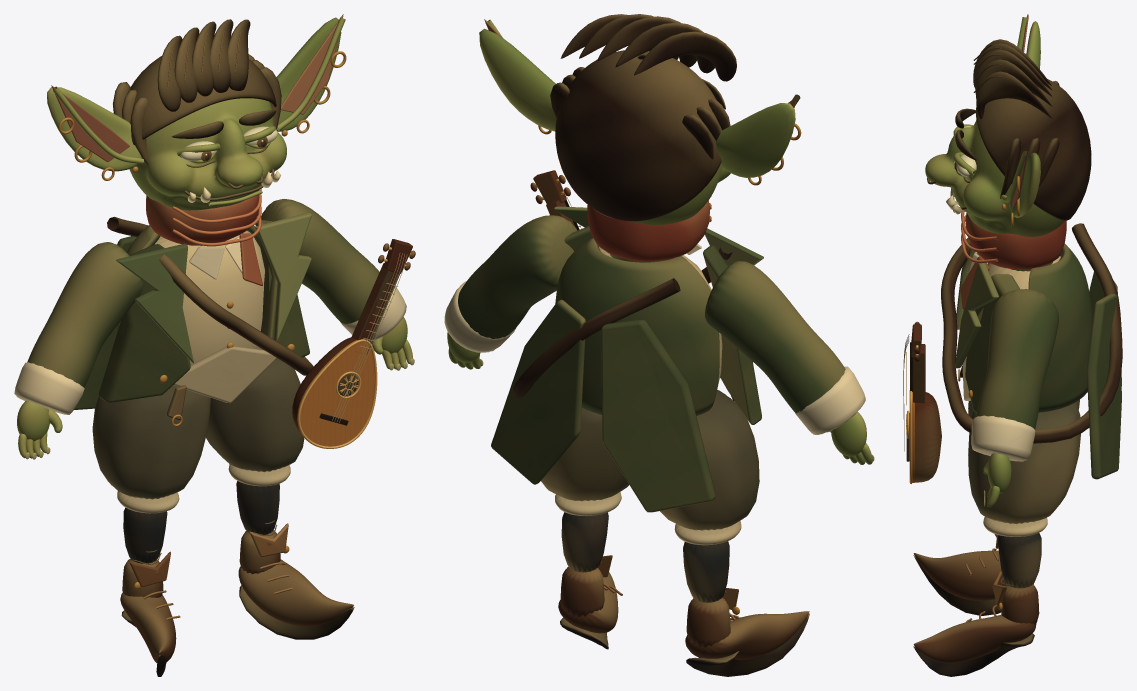
The model's file is Goblin_Music_Teacher.glb.
3 views of the same model, side by side, from view 1: azimuth 30°, elevation 25°; view 2: azimuth 150°, elevation 25°; view 3: azimuth 270°, elevation 25° (orthographic). The views are drawn at different scales.
Visible parts, largest first — view 1: Breeches.R, Head | sculpted face, Coat sleeve.R, Breeches.L, Coat sleeve.L, Coat front.R, Waistcoat torso, Lute soundboard, Shoe upper.L, Lapel.R, Lapel.L, Hair cap (+39 smaller); view 2: Hair cap, Coat tail.R, Coat back, Coat sleeve.R, Coat tail.L, Coat sleeve.L, Breeches.R, Breeches.L, Scarf wrap, Ear.R, Ear.L, Shoe upper.R (+23 smaller); view 3: Hair cap, Coat sleeve.L, Breeches.L, Coat back, Lute shoulder strap, Head | sculpted face, Coat tail.L, Shoe upper.L, Shoe upper.R, Scarf wrap, Turned cuff.L, Coat front.L (+23 smaller).
Boxes of the visible parts, x1,y1,x2,y2 form: Breeches.R: (92,385,210,499); Head | sculpted face: (129,98,286,210); Coat sleeve.R: (27,242,143,387); Breeches.L: (206,358,304,472); Coat sleeve.L: (261,199,379,323); Coat front.R: (99,244,190,402); Waistcoat torso: (155,230,264,364); Lute soundboard: (297,340,374,446); Shoe upper.L: (238,559,353,626); Lapel.R: (116,243,193,362); Lapel.L: (255,212,311,341); Hair cap: (130,56,276,145); Hair cap: (555,50,721,221); Coat tail.R: (601,319,715,512); Coat back: (555,238,719,415); Coat sleeve.R: (705,261,845,413); Coat tail.L: (491,299,585,484); Coat sleeve.L: (458,215,577,338); Breeches.R: (660,390,759,530); Breeches.L: (541,408,628,501); Scarf wrap: (587,200,709,261); Ear.R: (716,103,795,177); Ear.L: (479,28,556,131); Shoe upper.R: (685,611,809,660); Hair cap: (975,79,1091,220); Coat sleeve.L: (976,289,1058,429); Breeches.L: (968,402,1080,524); Coat back: (1028,243,1092,412); Lute shoulder strap: (941,223,1122,443); Head | sculpted face: (925,120,1064,236); Coat tail.L: (1086,294,1121,479); Shoe upper.L: (913,615,1036,663); Shoe upper.R: (913,550,1005,600); Scarf wrap: (965,213,1066,269); Turned cuff.L: (971,415,1035,461); Coat front.L: (965,274,1019,413).
Size of the model in its own units: 0.9885 by 1.47 by 0.4954.
Materials: 10 (10 with a texture image).
